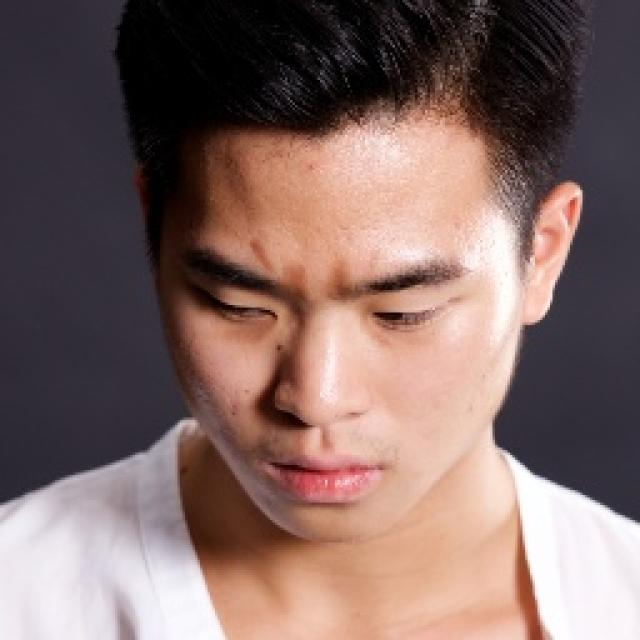earlobe: (522, 274, 552, 326)
eye: (197, 285, 276, 325), (367, 302, 452, 328)
nose: (269, 402, 374, 438)
wholeear: (522, 180, 583, 326)
